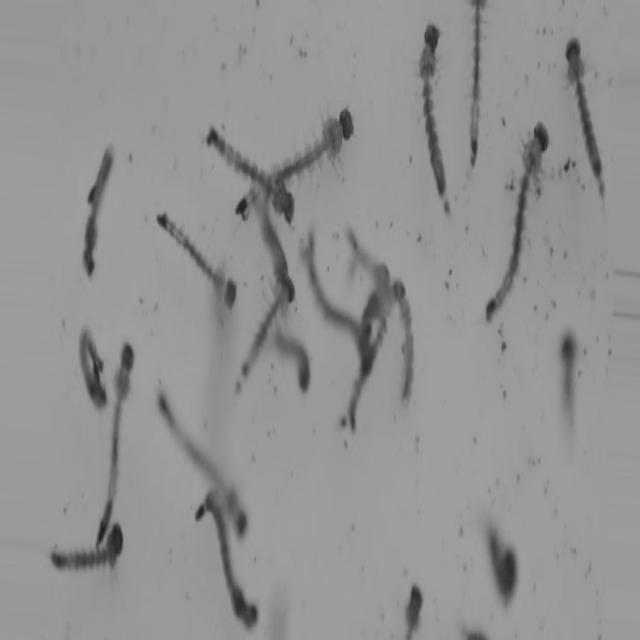larvas: (154, 381, 275, 553), (469, 110, 556, 336), (228, 89, 368, 229), (555, 6, 635, 238), (141, 200, 253, 328), (42, 116, 126, 281), (201, 115, 316, 234), (398, 0, 461, 217), (294, 234, 386, 375), (88, 331, 150, 540), (190, 490, 272, 635), (233, 267, 315, 377), (458, 0, 503, 184), (335, 301, 396, 433), (467, 520, 537, 632), (31, 520, 141, 583), (255, 325, 328, 417), (54, 299, 109, 412), (251, 205, 307, 314), (546, 315, 597, 432), (389, 272, 427, 409), (394, 571, 443, 640)
